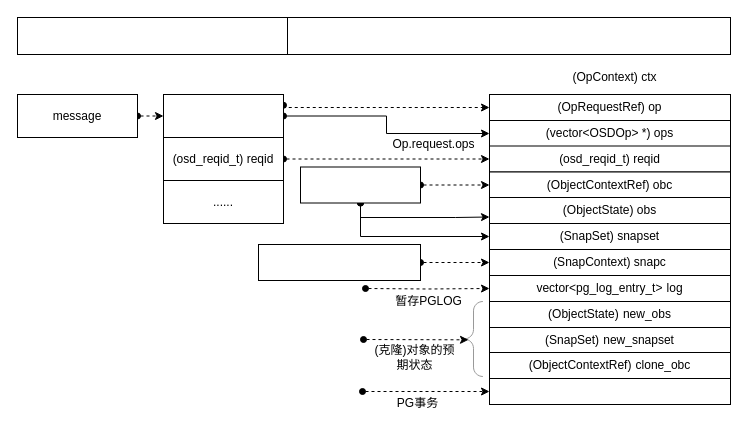
Image size: 748x431. Some labels were removed from this diagram. The shapes that lost their labels are listed below. From the top down, each one's centre as x and y in pixels, then its label:
At (x=152, y=35): "OSD网络通信线程".
At (x=508, y=35): "PG处理线程".
At (x=223, y=116): "(Message *)request".
At (x=360, y=184): "到存储后端查找/创建 ObjectContext".
At (x=339, y=262): "从PG中获取 (SnapContext) PG.pool.snapc".
At (x=609, y=391): "( PGTransactionUPtr ) op_t".
